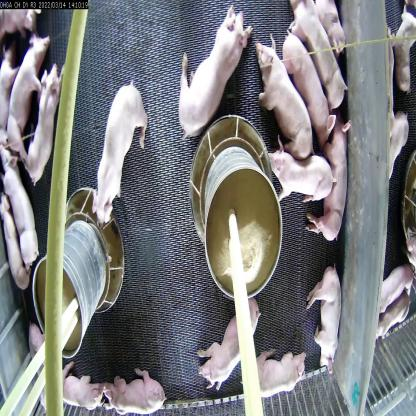Pig: (174, 0, 250, 147), (90, 68, 151, 230), (250, 27, 311, 167), (289, 0, 349, 118), (281, 21, 339, 140), (3, 26, 50, 167), (196, 293, 262, 392), (304, 119, 353, 242), (23, 52, 64, 191), (0, 140, 42, 268), (267, 134, 335, 206), (41, 351, 107, 415), (305, 259, 340, 377), (100, 360, 170, 416), (251, 341, 308, 401)
